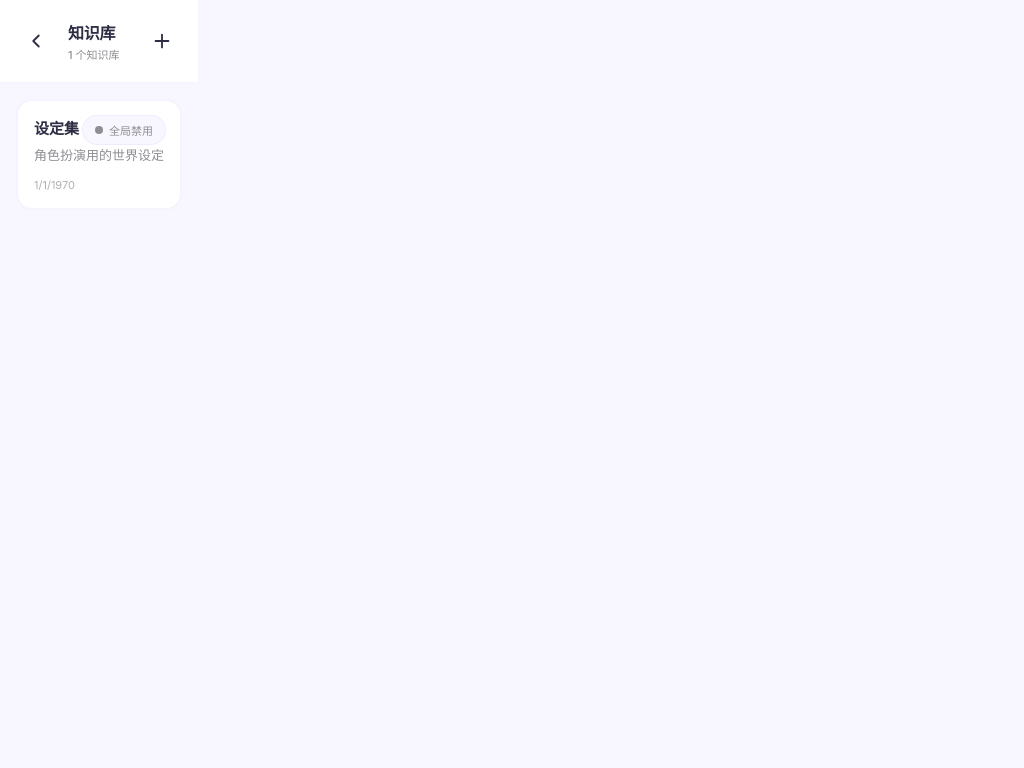
Test: KnowledgeBasePage 列表 › 新建知识库：空名称禁止保存，填写后落库并提示
Expected: the element with class "kb-card" is shown, left=16, top=99, right=182, bottom=210
# 列表页右上角是「+」按钮（图标按钮，没有文本），用结构定位更稳
Click the 2nd button with class "nav-btn" at [162, 41], box left=142, top=21, right=182, bottom=61
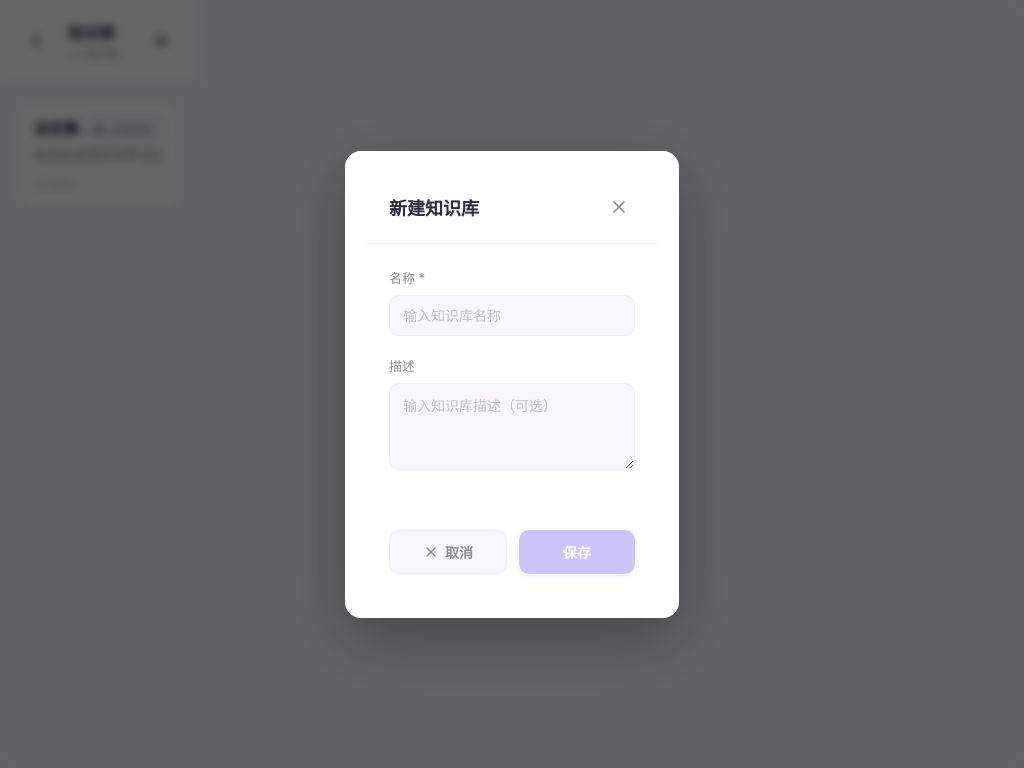
Now the heading "新建知识库" is shown, box left=389, top=194, right=479, bottom=220
Now the button with class "form-action-btn" showing "保存" is disabled, box left=519, top=530, right=635, bottom=574
Type "新设定集" into the field with placeholder "输入知识库名称" at [512, 315], box left=389, top=294, right=635, bottom=336
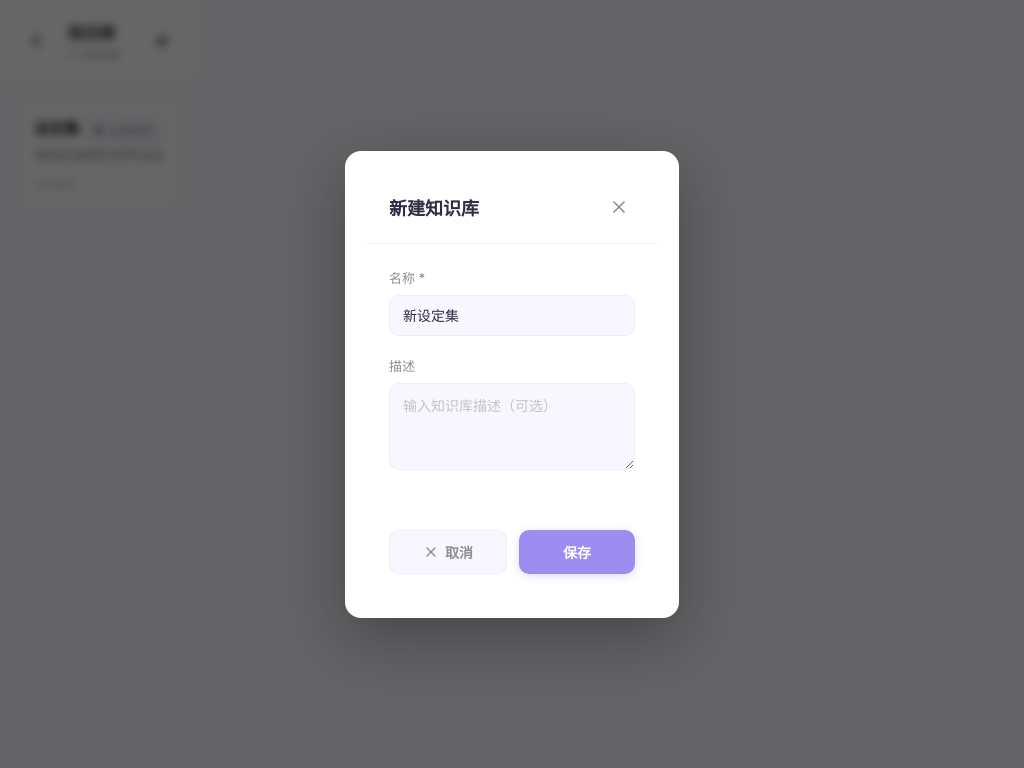
Type "新建的描述" into the text box with placeholder "输入知识库描述（可选）" at [512, 426], box left=389, top=382, right=635, bottom=470
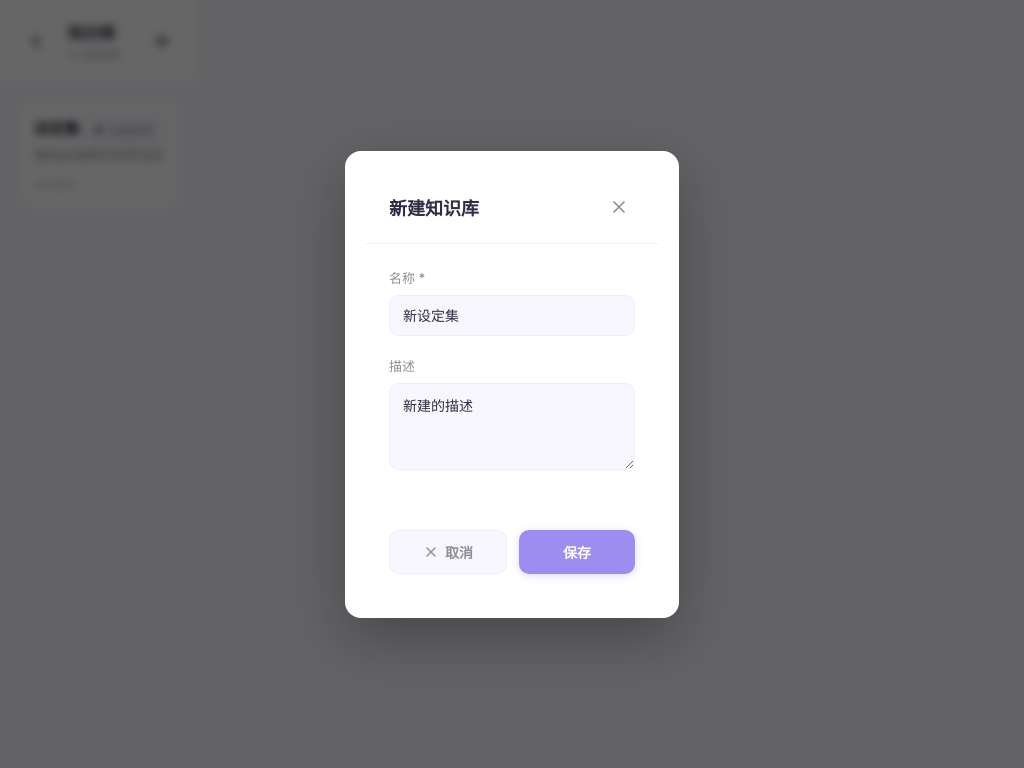
Now the button with class "form-action-btn" showing "保存" is enabled
Click the button with class "form-action-btn" showing "保存" at [577, 552], box left=519, top=530, right=635, bottom=574
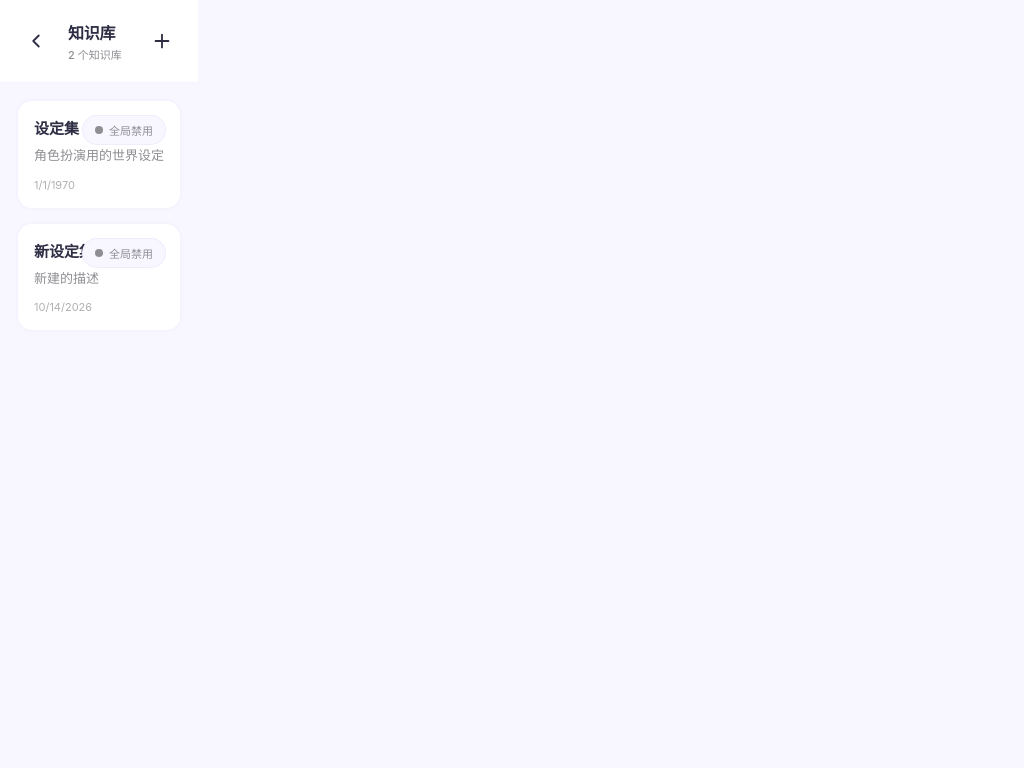
Now the text "新建的描述" is shown, box left=34, top=270, right=99, bottom=286
